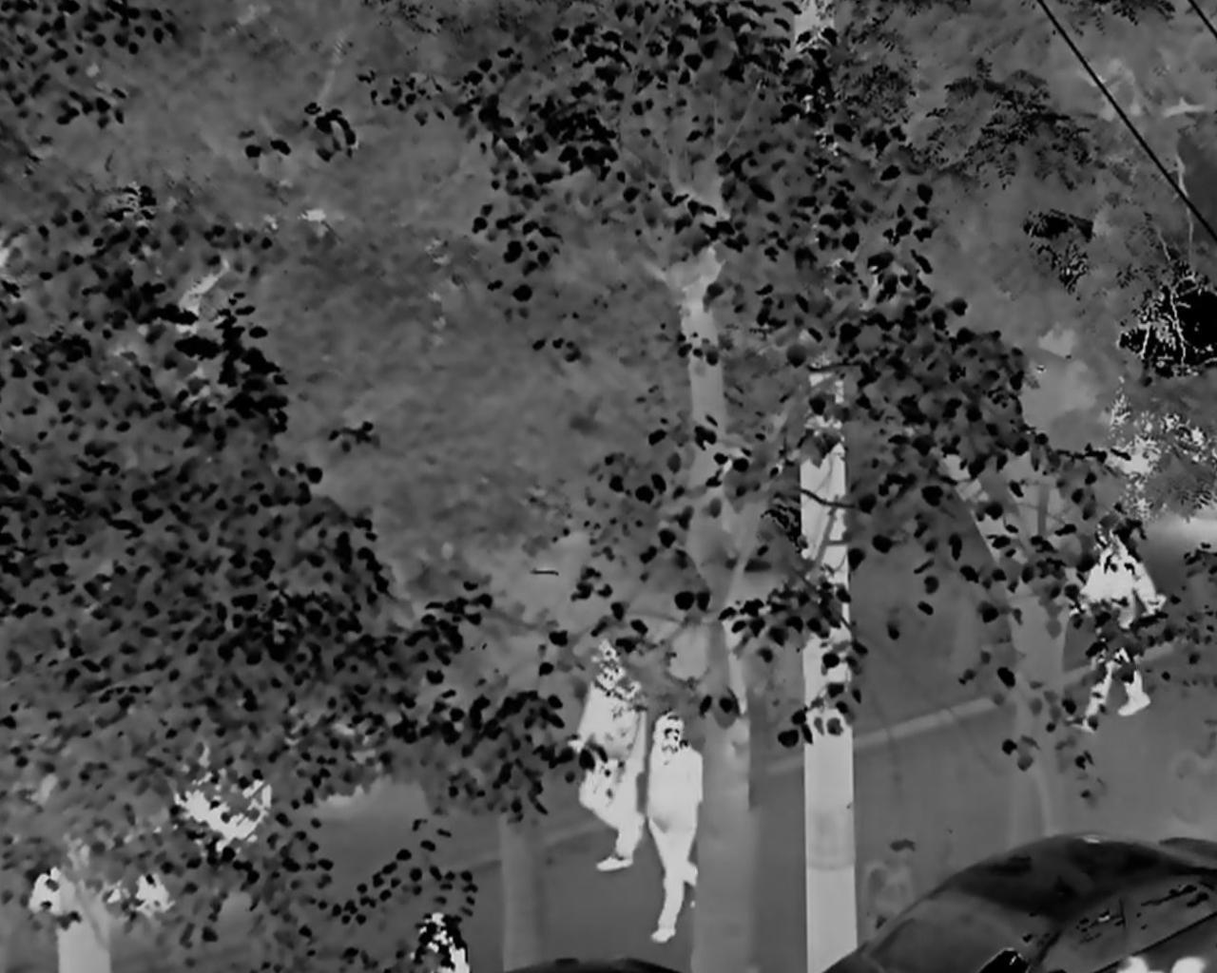person: (570, 640, 649, 872), (1074, 524, 1154, 732), (645, 711, 704, 944)
